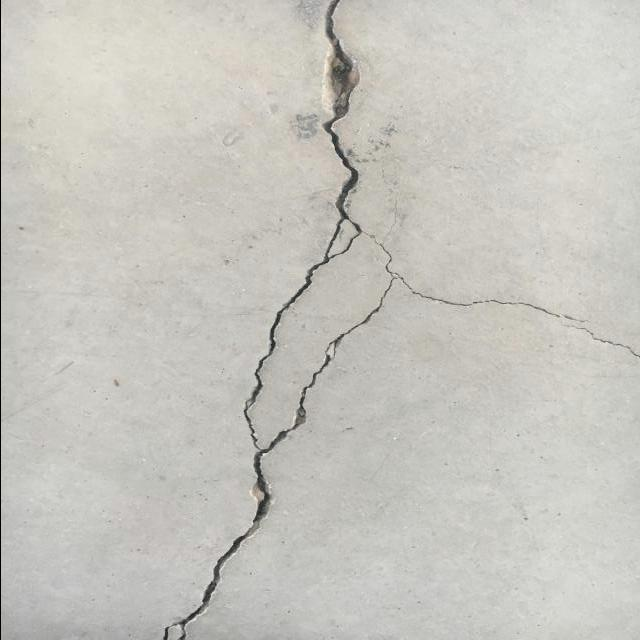SurfaceCrack: (133, 0, 415, 640), (362, 256, 640, 402)
